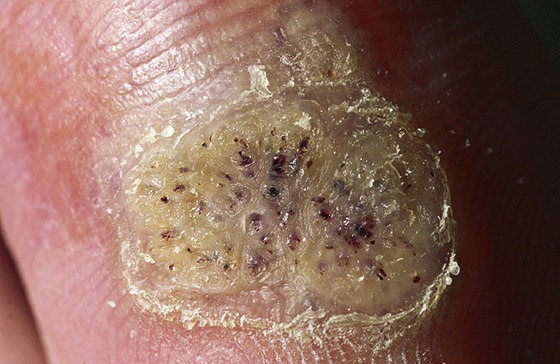Warts: (99, 30, 478, 354)
